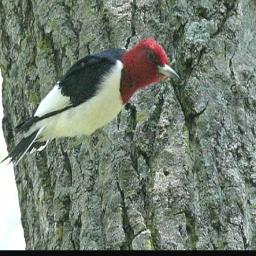Woodpecker: (0, 28, 187, 182)
